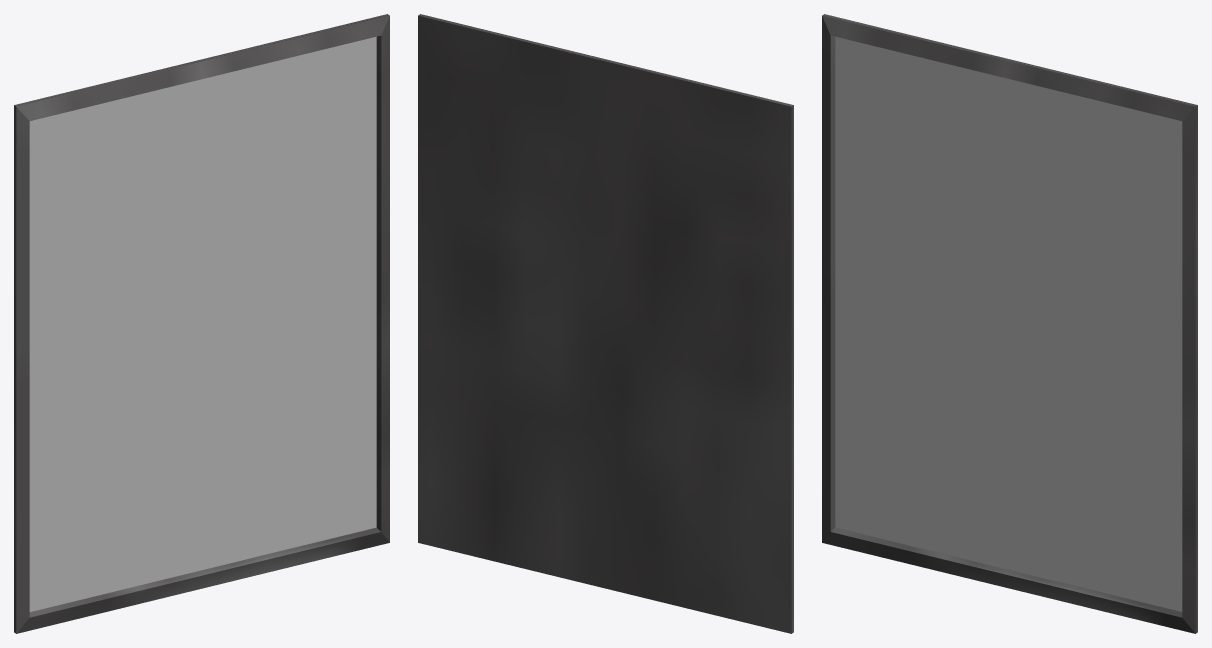
Rendered from MKU_poster_frame_Nixon.fbx.
3 renders of one model, left to right at view 1: azimuth 30°, elevation 25°; view 2: azimuth 150°, elevation 25°; view 3: azimuth 330°, elevation 25°, orthographic.
Visible parts, largest first — view 1: Plane, Cube; view 2: Cube; view 3: Plane, Cube.
Boxes of the visible parts, x1,y1,x2,y2 form: Plane: (29,36,376,611); Cube: (14,14,389,633); Cube: (418,14,793,633); Plane: (835,36,1182,611); Cube: (822,14,1197,633).
Bounding box in the file's own units: 615 × 829 × 13.32.
